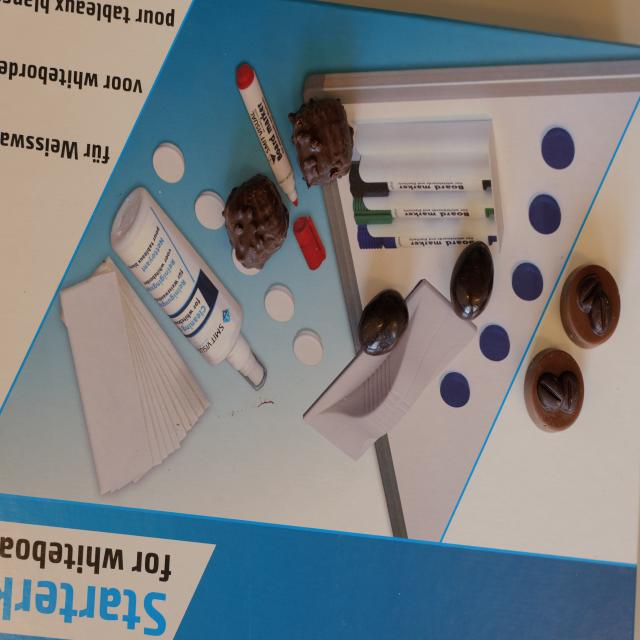Arabia: (524, 348, 585, 435), (558, 264, 620, 348)
Jelly_Black: (450, 240, 495, 322), (358, 288, 410, 357)
Tentation_noir: (223, 173, 288, 270), (288, 96, 354, 190)
